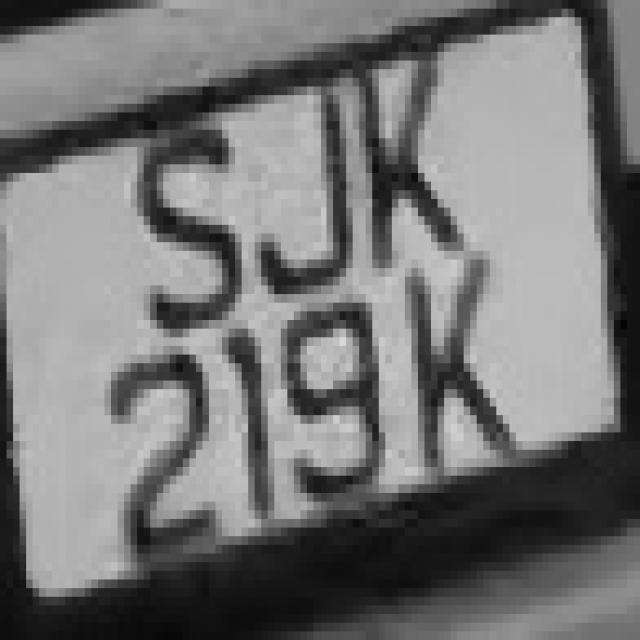1: (228, 294, 288, 562)
2: (105, 329, 235, 588)
9: (255, 294, 392, 510)
J: (248, 61, 359, 294)
K: (372, 225, 516, 484), (333, 26, 477, 277)
S: (118, 95, 248, 355)
